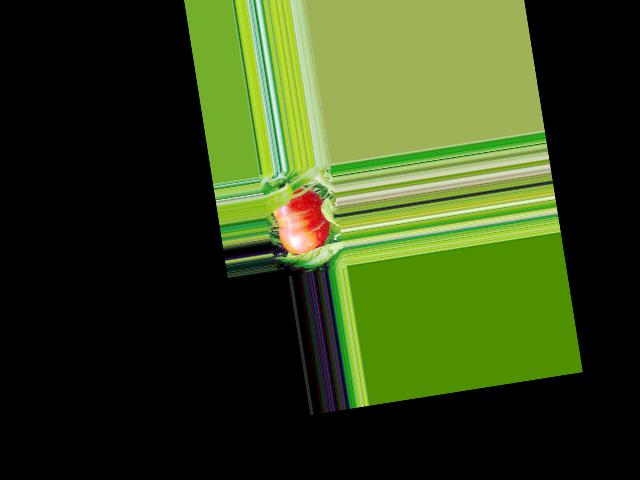tomato: (269, 183, 334, 257)
